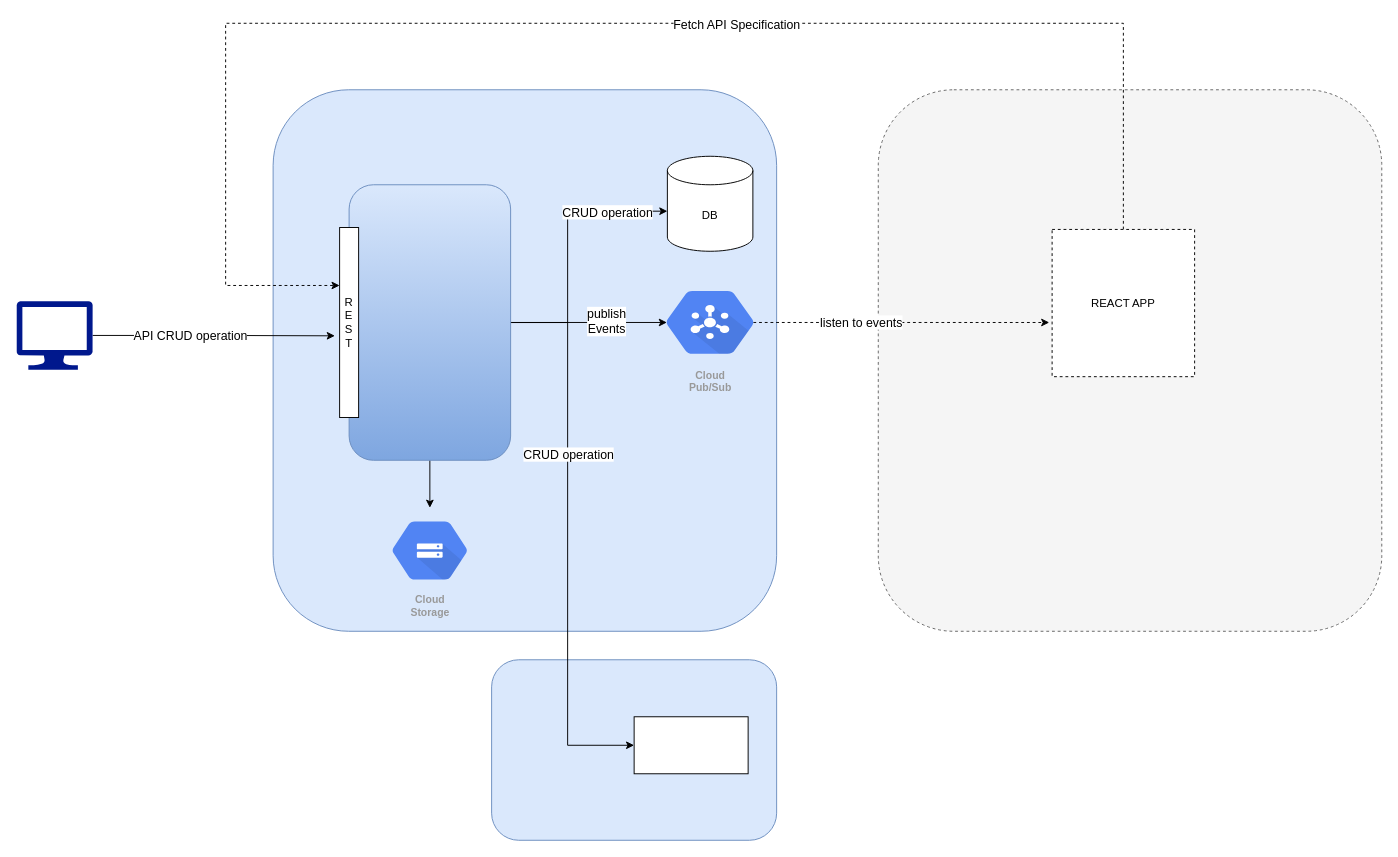
The diagram is 1398 pixels wide and 857 high, and some of its shapes have lost their labels. Each missing label, with the centre of its shape:
"Clinet" belongs at point (54, 335).
"kong Gateway" belongs at point (690, 745).
